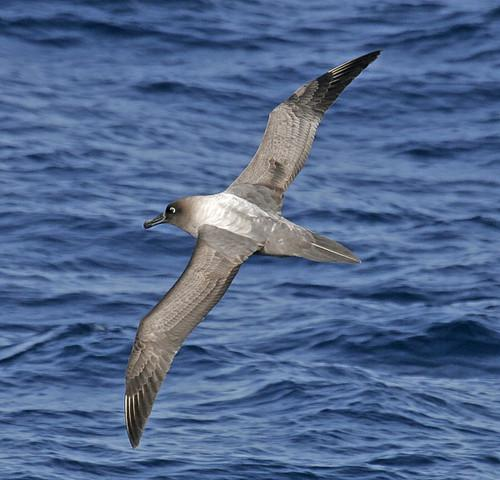003.Sooty_Albatross: (124, 52, 389, 452)
